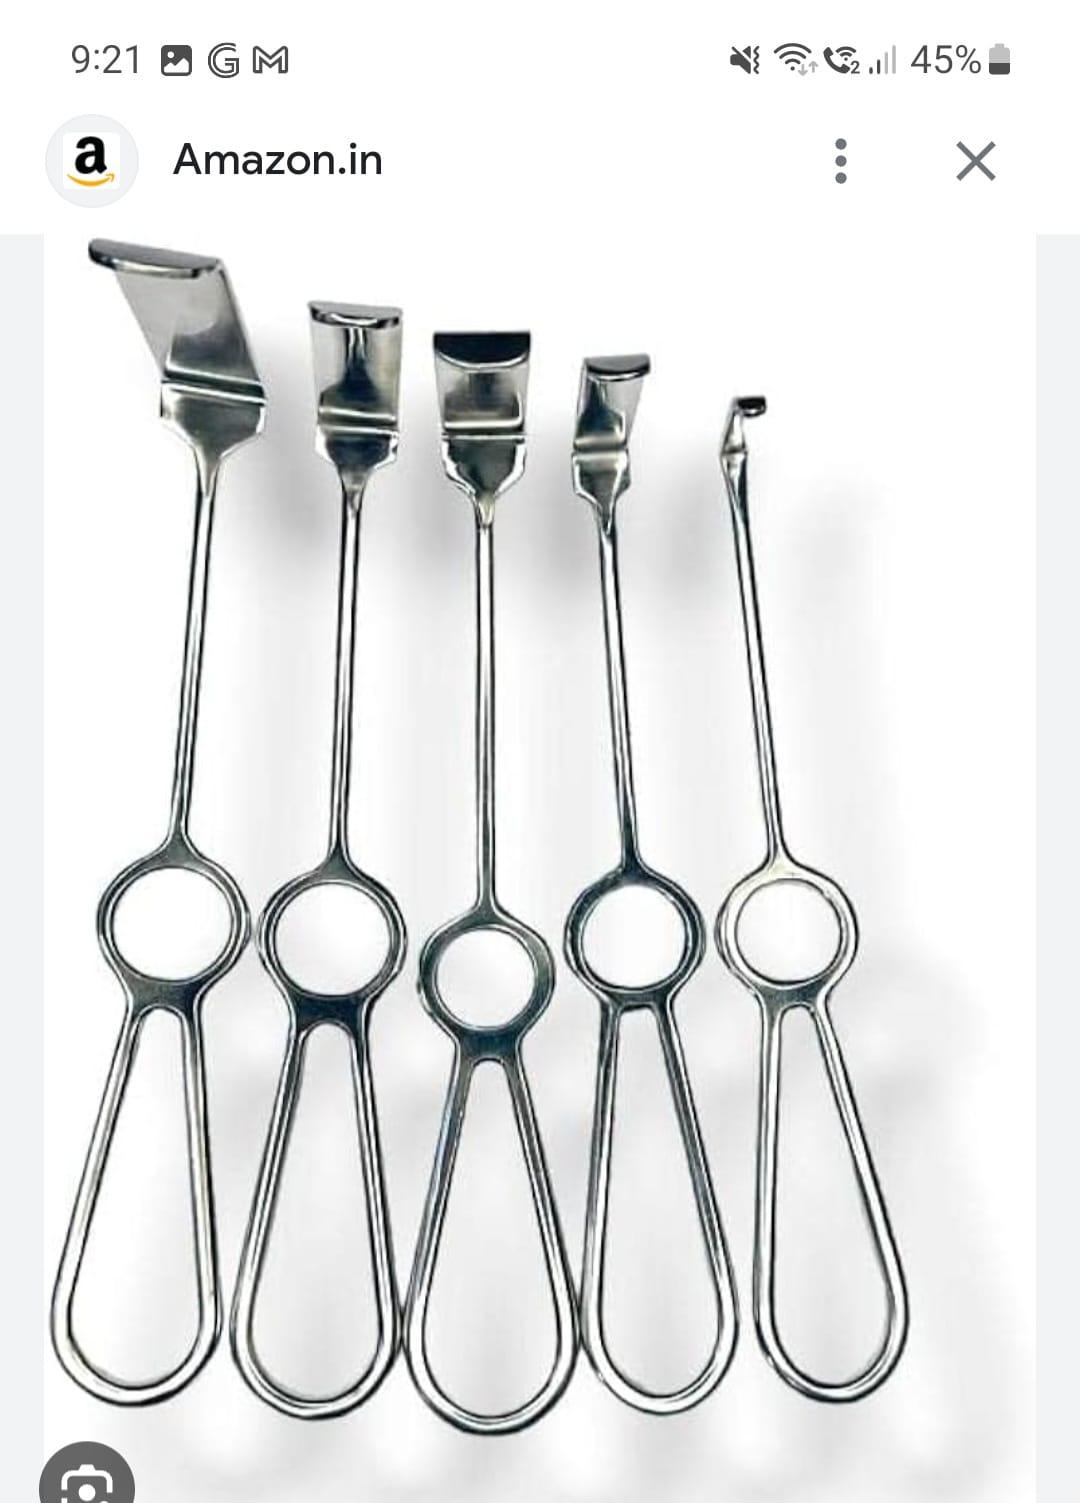Langenbach Retractor: (215, 285, 433, 1410), (63, 225, 222, 1398), (418, 302, 580, 1430), (578, 315, 725, 1420)
